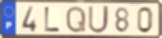0: (136, 6, 155, 35)
4: (21, 5, 38, 33)
8: (115, 6, 130, 33)
L: (44, 6, 62, 33)
Q: (65, 5, 87, 34)
U: (87, 5, 110, 35)
